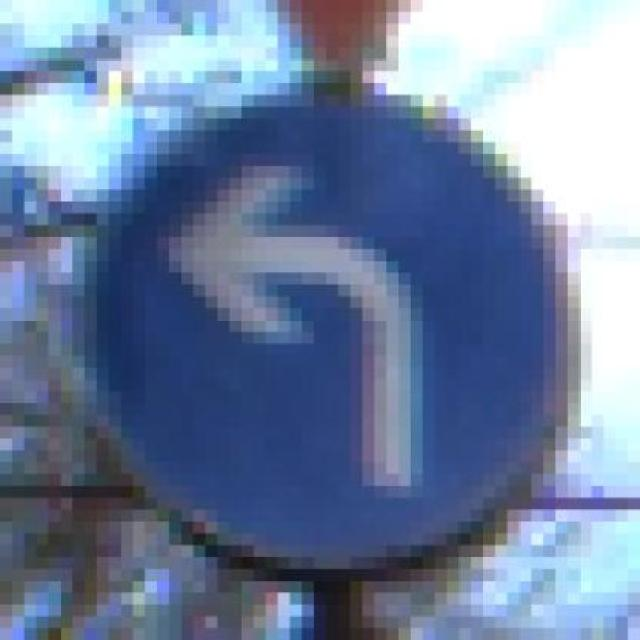Turn left ahead: (48, 48, 580, 580)
